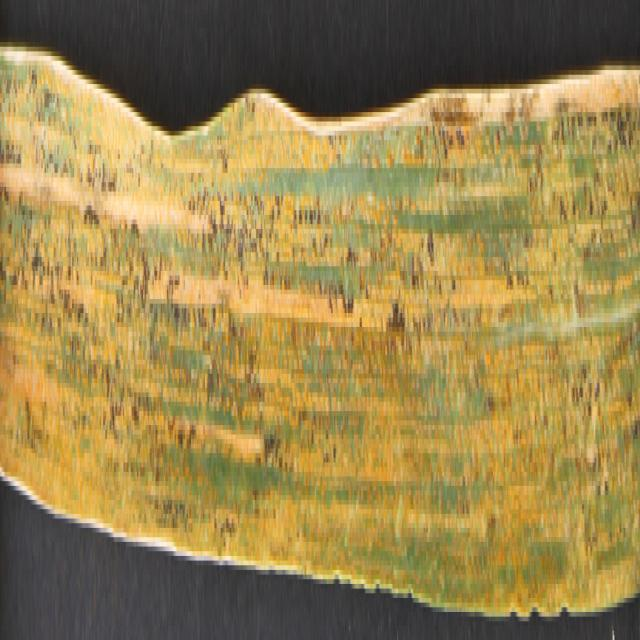leaf rust: (1, 61, 640, 598)
